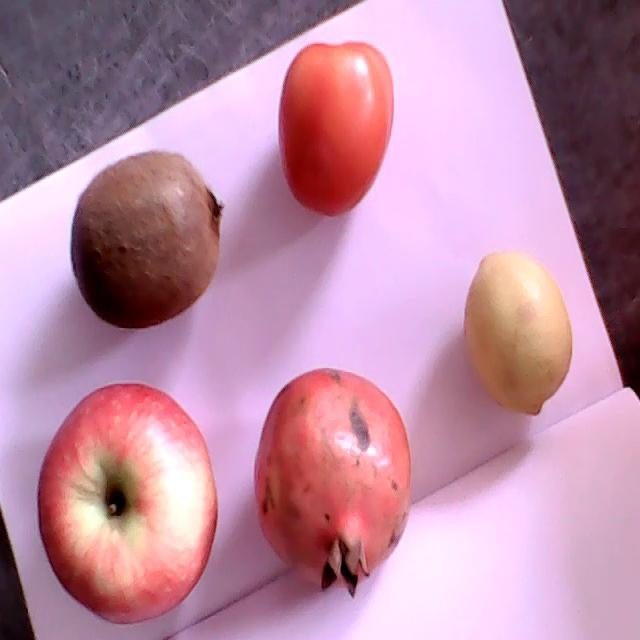apple: (38, 384, 217, 624)
kiwi: (72, 151, 225, 329)
lemon: (465, 250, 571, 412)
pomegranate: (252, 368, 410, 597)
tomato: (280, 40, 394, 216)
